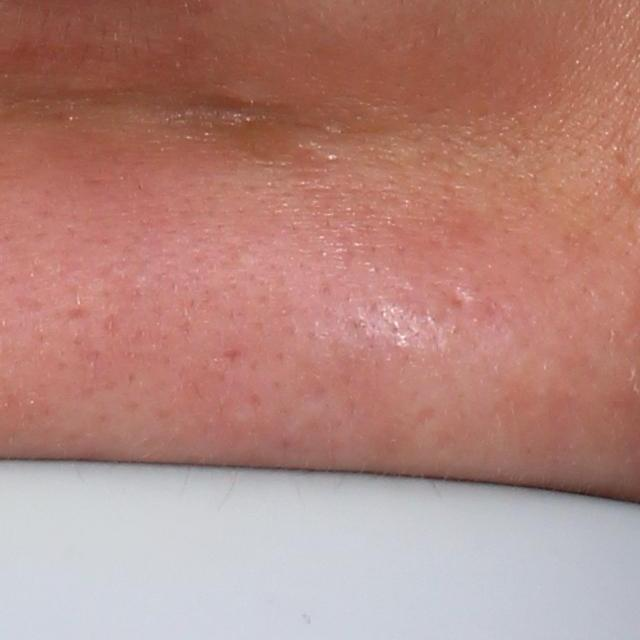atrophic_scar: (442, 287, 469, 311), (58, 306, 94, 322)
